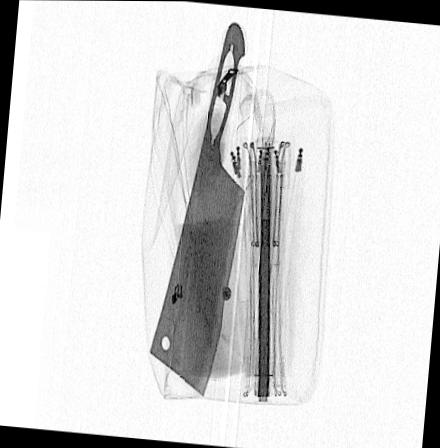Knife: (146, 17, 245, 398)
